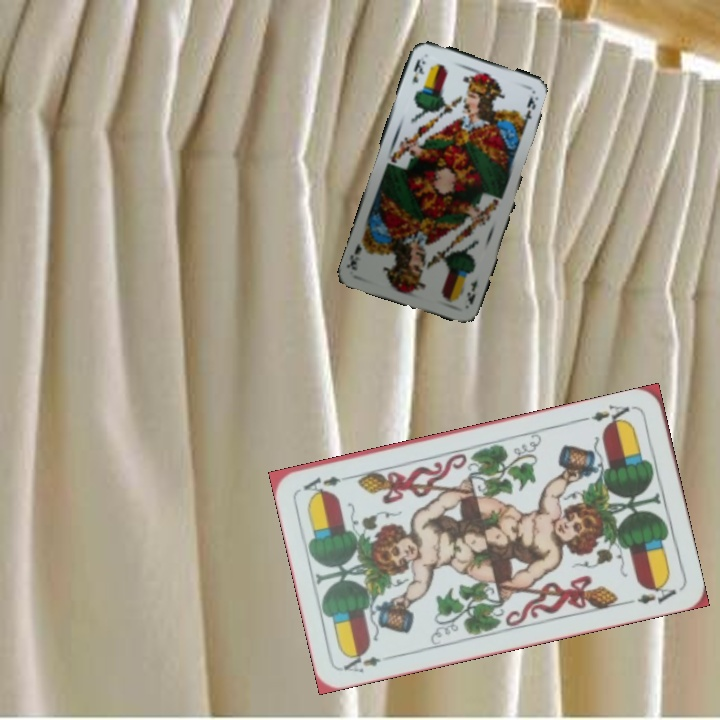EA: (339, 647, 397, 676), (587, 401, 637, 430)
EK: (409, 55, 428, 85), (463, 276, 480, 307)
